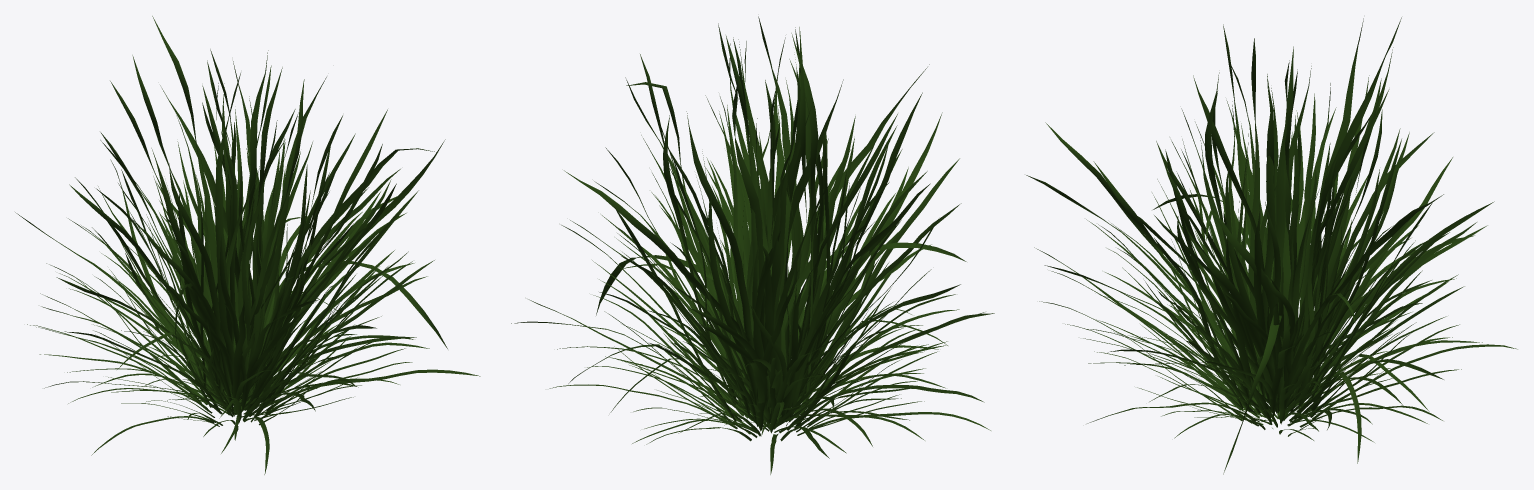
Rendered from grass.gltf.
3 views of the same model, side by side, from view 1: azimuth 30°, elevation 25°; view 2: azimuth 150°, elevation 25°; view 3: azimuth 270°, elevation 25° (orthographic). The views are drawn at different scales.
Visible parts, largest first — view 1: kkviz miscanthus sinensis zebrinus_01; view 2: kkviz miscanthus sinensis zebrinus_01; view 3: kkviz miscanthus sinensis zebrinus_01.
Boxes of the visible parts, x1,y1,x2,y2 form: kkviz miscanthus sinensis zebrinus_01: (15,16,480,474); kkviz miscanthus sinensis zebrinus_01: (511,16,994,474); kkviz miscanthus sinensis zebrinus_01: (1026,17,1517,474).
Bounding box in the file's own units: 0.5788 × 0.508 × 0.5811.
